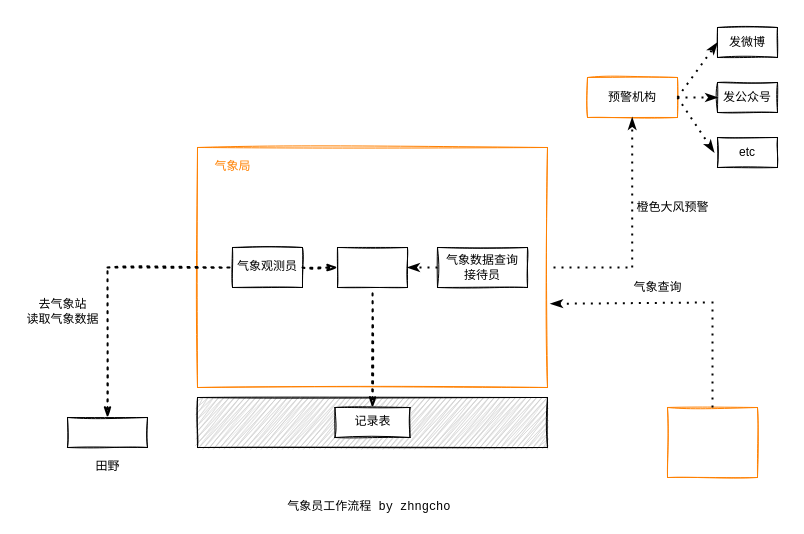
Image size: 804x534. Some labels were removed from this diagram. Here are the shapes that lost their labels. From the top down, the centre of each, then its label:
pixel 372 267: 气象数据 保管员
pixel 107 432: 气象站
pixel 712 442: 其他需要气象数据的组织
